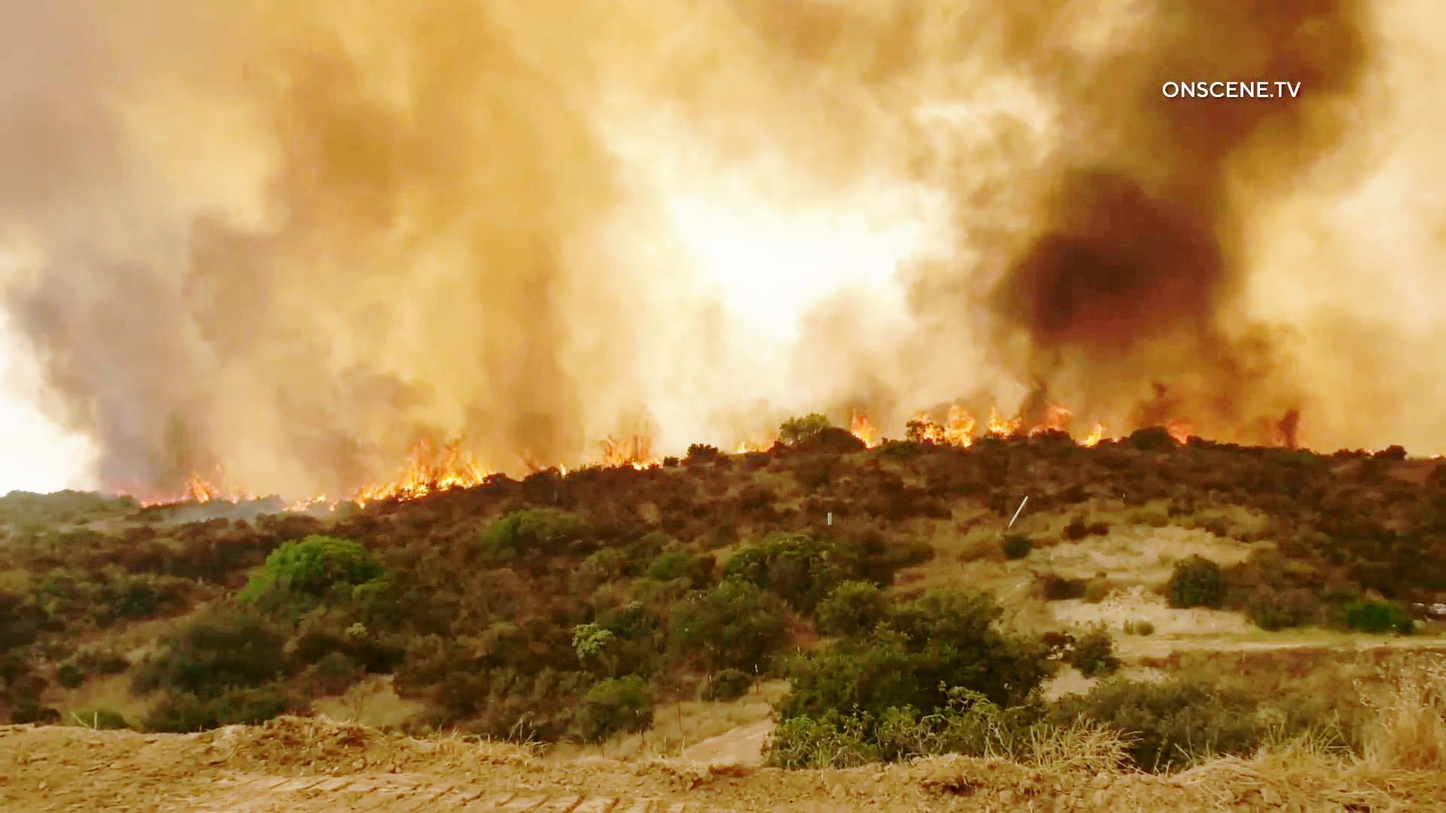fire: (347, 439, 496, 518), (912, 392, 1016, 454)
smoke: (1006, 153, 1240, 378), (57, 322, 185, 493)
